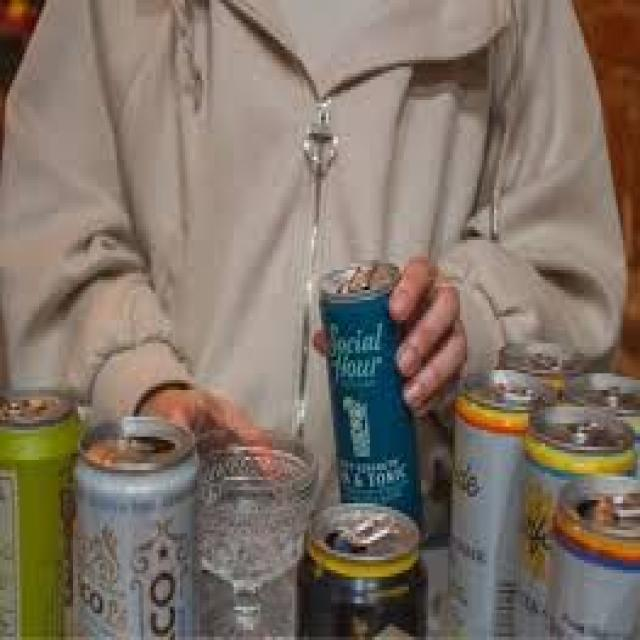Cans: (309, 253, 431, 547), (70, 413, 204, 637), (448, 363, 540, 640)
